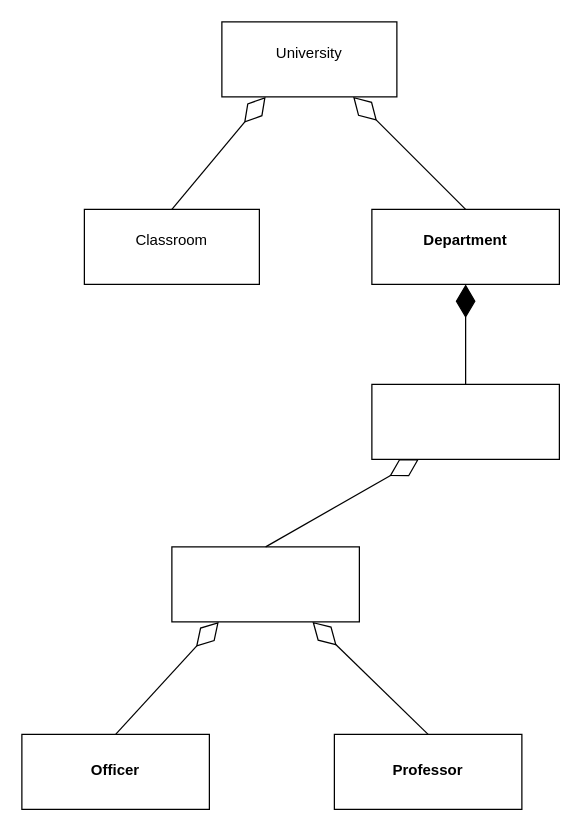
Some shapes in this 581 by 831 pixel diagram are drawn without their labels. The shapes that lost their labels are listed below. From the top down, each one's box as (x1, y1, x2, y2) in pixels, then its label:
(371, 383, 559, 459): Office
(171, 546, 359, 622): Staff
